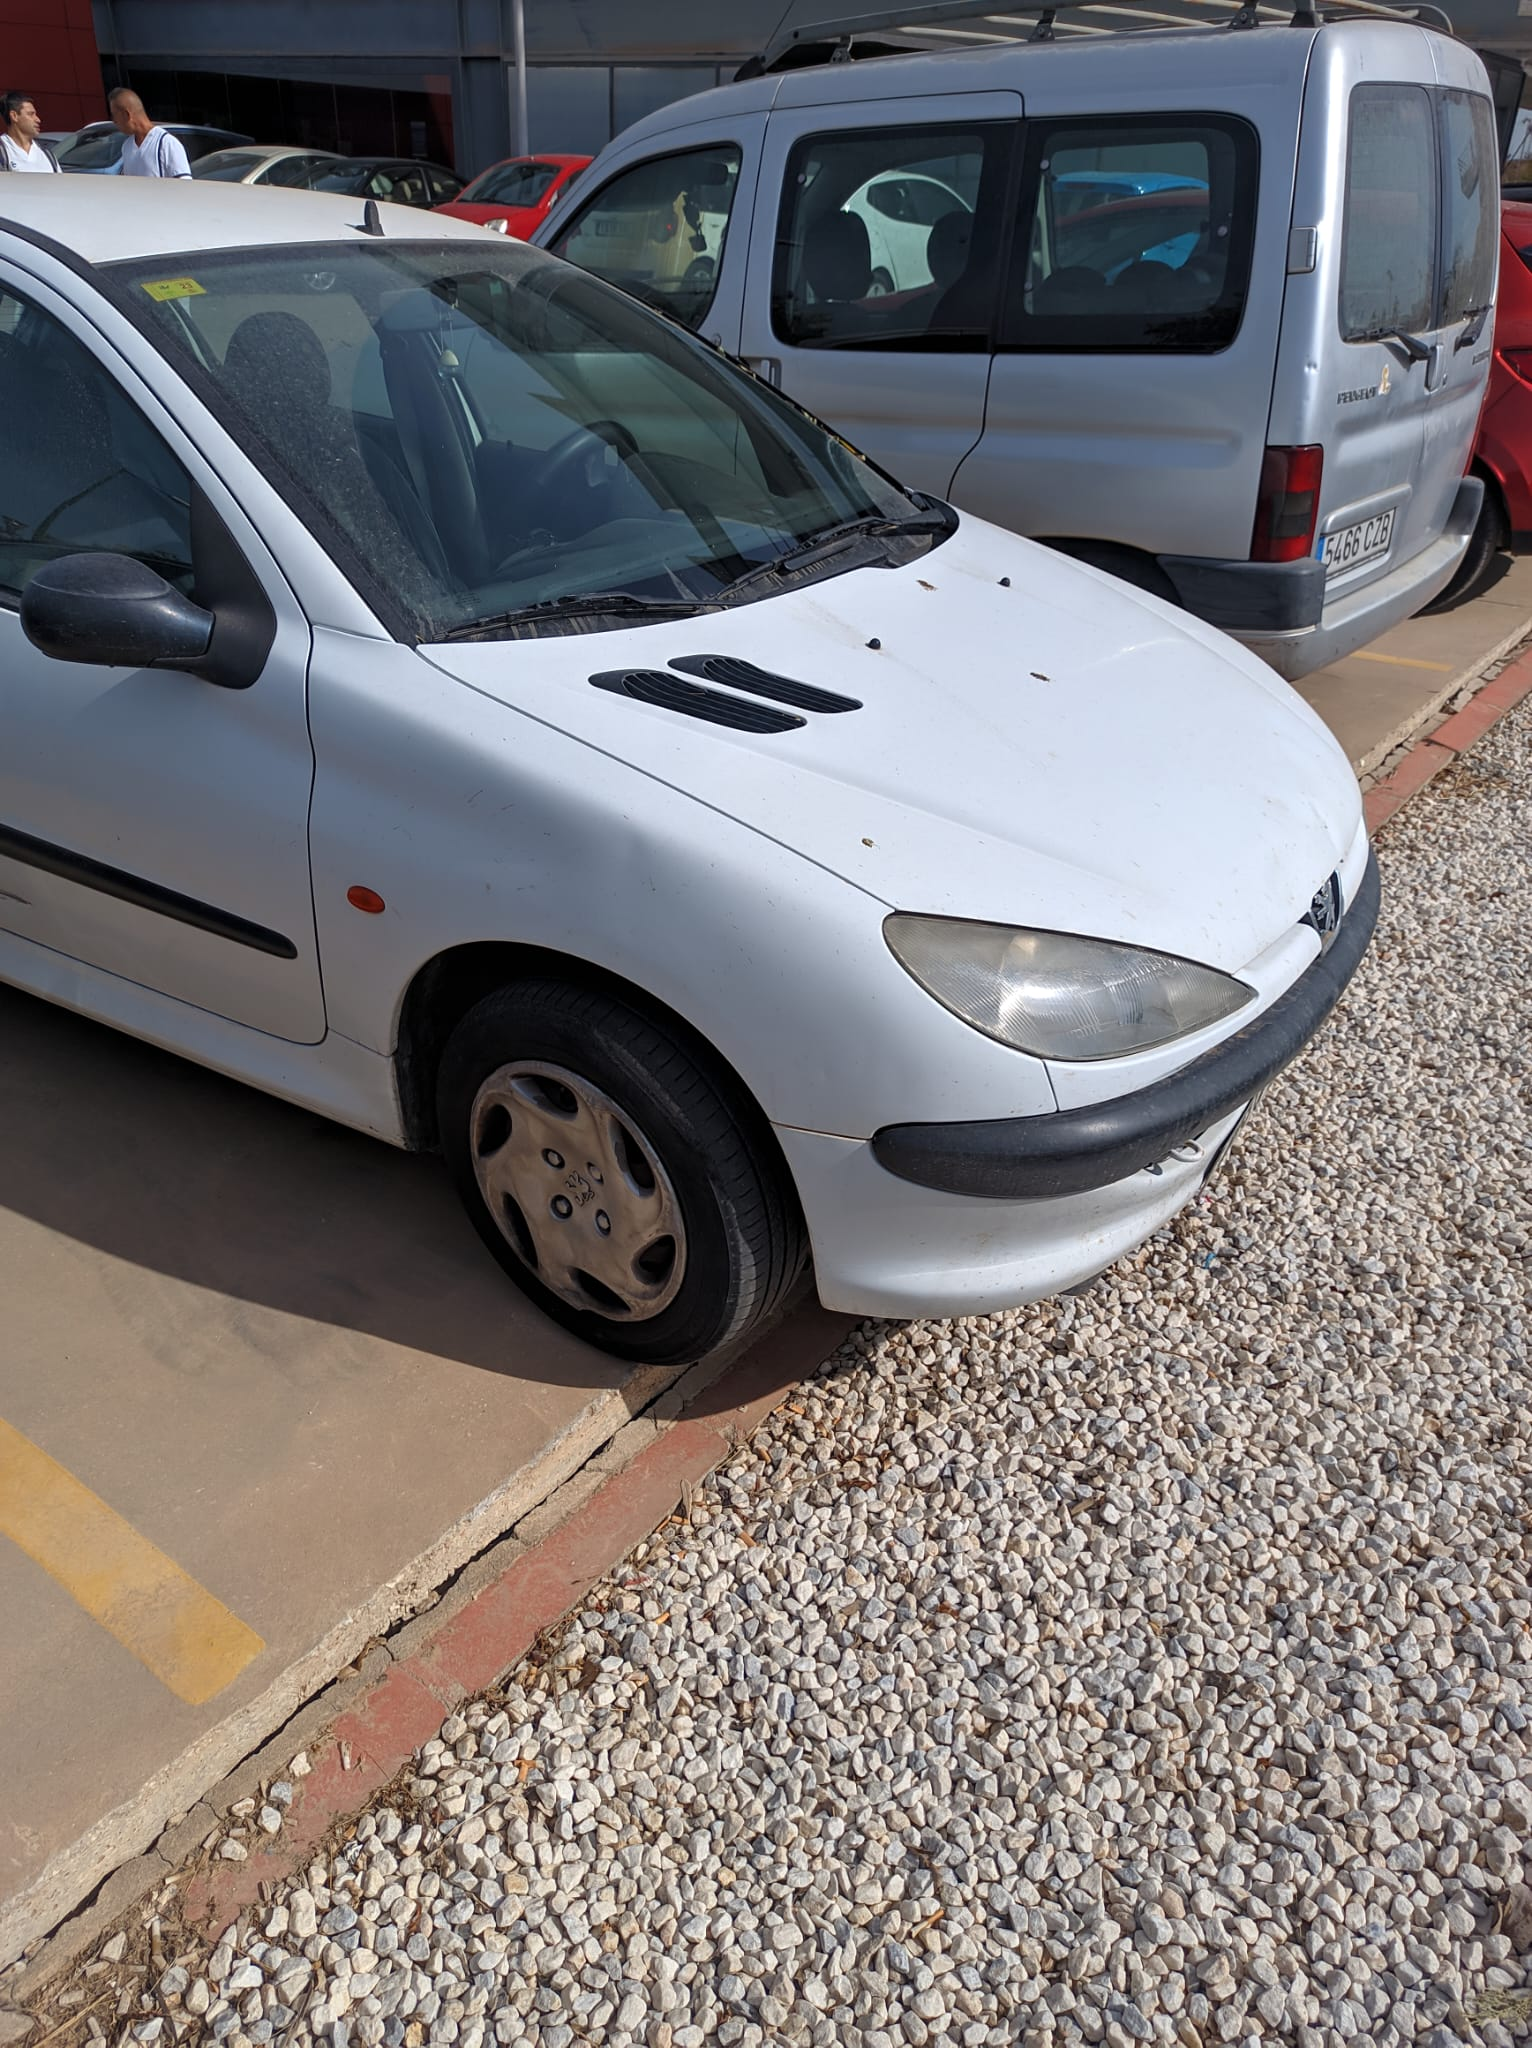car: (0, 166, 1413, 1433), (526, 23, 1501, 624)
